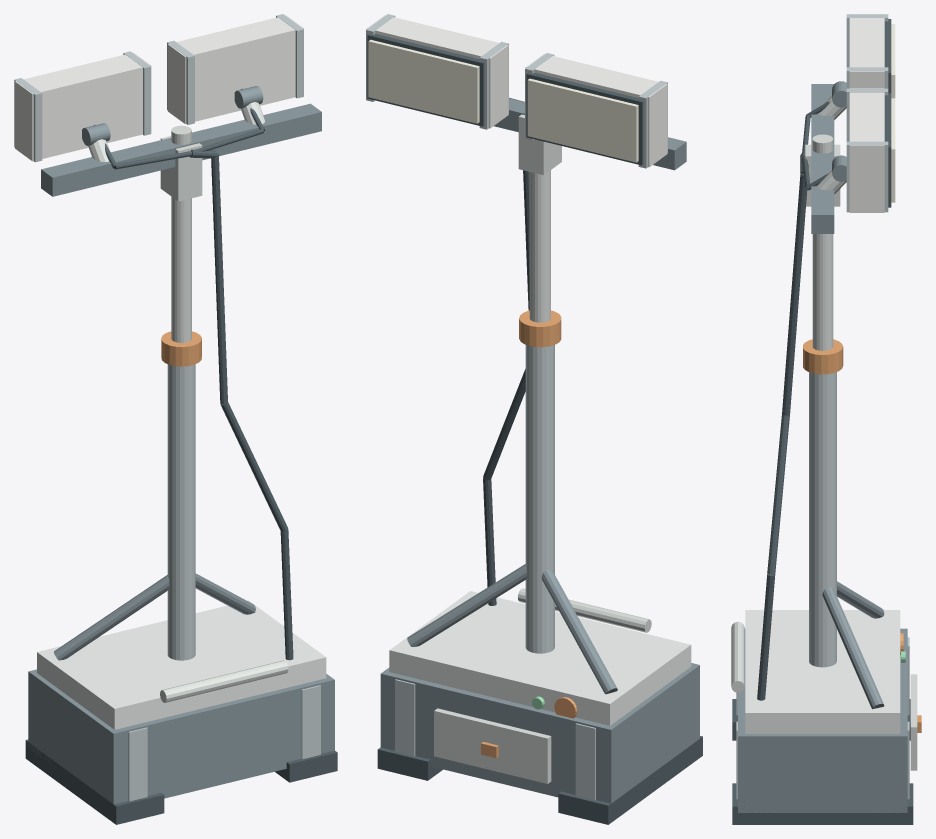
The model's file is portable_work_light.glb.
The picture shows the model from 3 angles, left to right: view 1: azimuth 30°, elevation 25°; view 2: azimuth 150°, elevation 25°; view 3: azimuth 270°, elevation 25°; orthographic projection. The views are drawn at different scales.
Visible parts, largest first — view 1: battery_base_dark_alloy, light_housing_white_painted, upper_casing_white_ceramic, telescoping_pole_alloy, light_yoke_dark_alloy, power_cable_black_rubber, ground_feet_black_rubber, telescoping_pole_satin_steel, housing_endcaps_alloy, base_brackets_alloy, pole_braces_dark_alloy, carry_handle_satin_steel (+5 smaller); view 2: upper_casing_white_ceramic, battery_base_dark_alloy, led_emitter_light_diffuser, telescoping_pole_alloy, light_housing_white_painted, service_lid_warm_panel, ground_feet_black_rubber, pole_braces_dark_alloy, telescoping_pole_satin_steel, light_gasket_black_rubber, base_brackets_alloy, power_cable_black_rubber (+5 smaller); view 3: upper_casing_white_ceramic, battery_base_dark_alloy, telescoping_pole_alloy, light_housing_white_painted, power_cable_black_rubber, telescoping_pole_satin_steel, ground_feet_black_rubber, light_yoke_dark_alloy, pole_braces_dark_alloy, housing_endcaps_alloy, locking_collar_orange, light_gasket_black_rubber (+8 smaller).
Boxes of the visible parts, box(x1,y1,x2,y2) form: battery_base_dark_alloy: box(28, 669, 334, 804); light_housing_white_painted: box(15, 15, 303, 161); upper_casing_white_ceramic: box(37, 600, 326, 729); telescoping_pole_alloy: box(167, 364, 195, 660); light_yoke_dark_alloy: box(41, 103, 321, 196); power_cable_black_rubber: box(189, 149, 293, 660); ground_feet_black_rubber: box(25, 739, 337, 824); telescoping_pole_satin_steel: box(171, 125, 191, 342); housing_endcaps_alloy: box(14, 14, 303, 162); base_brackets_alloy: box(128, 685, 320, 801); pole_braces_dark_alloy: box(54, 573, 255, 660); carry_handle_satin_steel: box(160, 660, 288, 702); upper_casing_white_ceramic: box(389, 591, 691, 725); battery_base_dark_alloy: box(380, 663, 699, 803); led_emitter_light_diffuser: box(368, 39, 638, 162); telescoping_pole_alloy: box(525, 345, 554, 653); light_housing_white_painted: box(366, 15, 667, 167); service_lid_warm_panel: box(434, 708, 551, 783); ground_feet_black_rubber: box(377, 736, 702, 824); pole_braces_dark_alloy: box(407, 564, 617, 694); telescoping_pole_satin_steel: box(529, 170, 550, 322); light_gasket_black_rubber: box(367, 34, 643, 165); base_brackets_alloy: box(395, 679, 595, 800); power_cable_black_rubber: box(483, 170, 529, 605); upper_casing_white_ceramic: box(745, 610, 900, 733); battery_base_dark_alloy: box(738, 628, 907, 812); telescoping_pole_alloy: box(809, 372, 836, 667); light_housing_white_painted: box(849, 14, 884, 212); power_cable_black_rubber: box(757, 152, 808, 700); telescoping_pole_satin_steel: box(812, 134, 833, 350); ground_feet_black_rubber: box(732, 699, 913, 824); light_yoke_dark_alloy: box(811, 84, 834, 233); pole_braces_dark_alloy: box(822, 581, 884, 709); housing_endcaps_alloy: box(846, 14, 888, 212); locking_collar_orange: box(803, 339, 843, 374); light_gasket_black_rubber: box(884, 19, 891, 207).
Size of the model in its own units: 0.846 by 2.07 by 0.5155.
